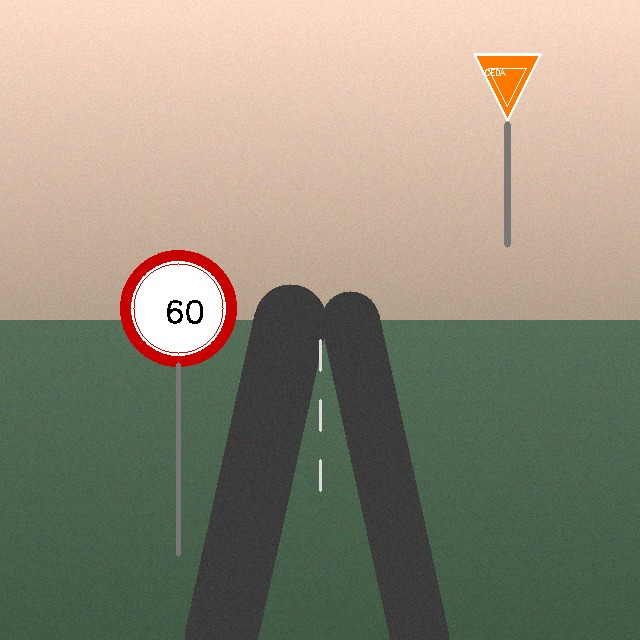ceda_el_paso: (470, 50, 544, 124)
velocidad: (123, 253, 234, 364)
